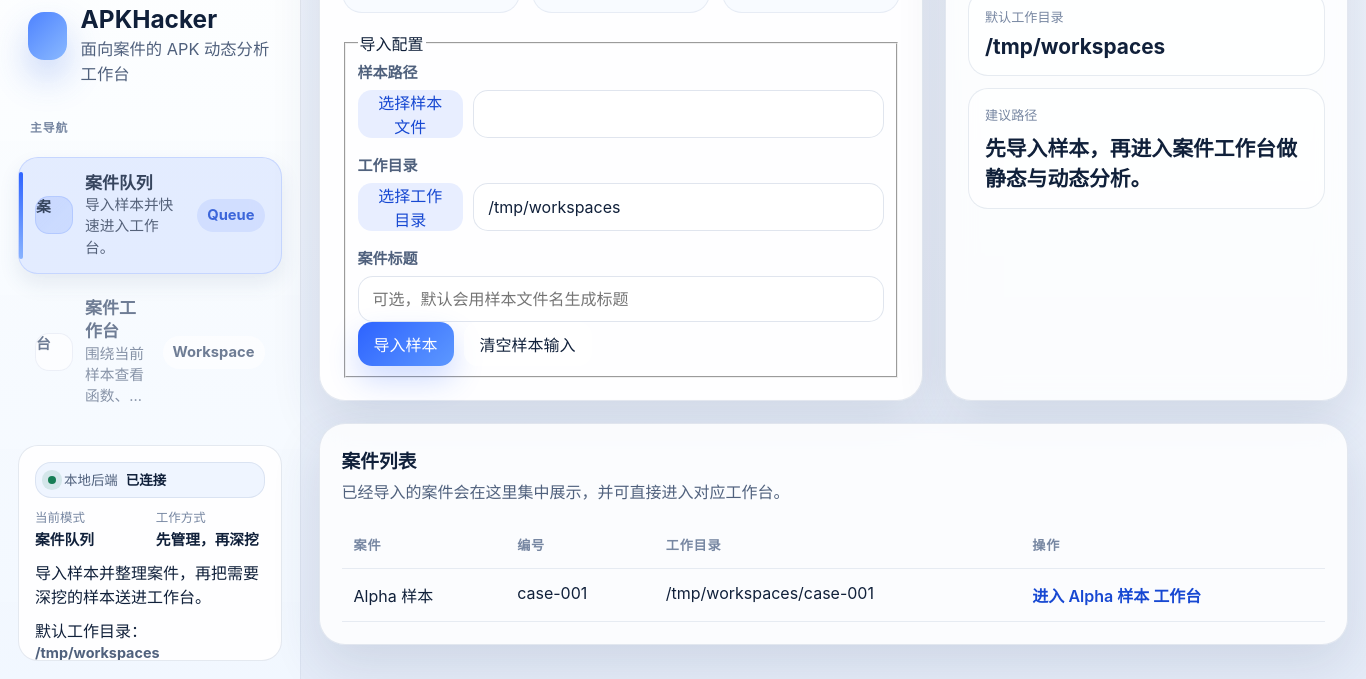
it: App shell › navigates from queue to a concrete workspace and loads workspace details
The width and height of the screenshot is (1366, 679).
(page scrolled)
What coordinates should you click on to do the following:
click the link "进入 Alpha 样本 工作台"
I would click on:
 (1050, 596)
Its box is x1=1032 y1=586 x2=1201 y2=606.
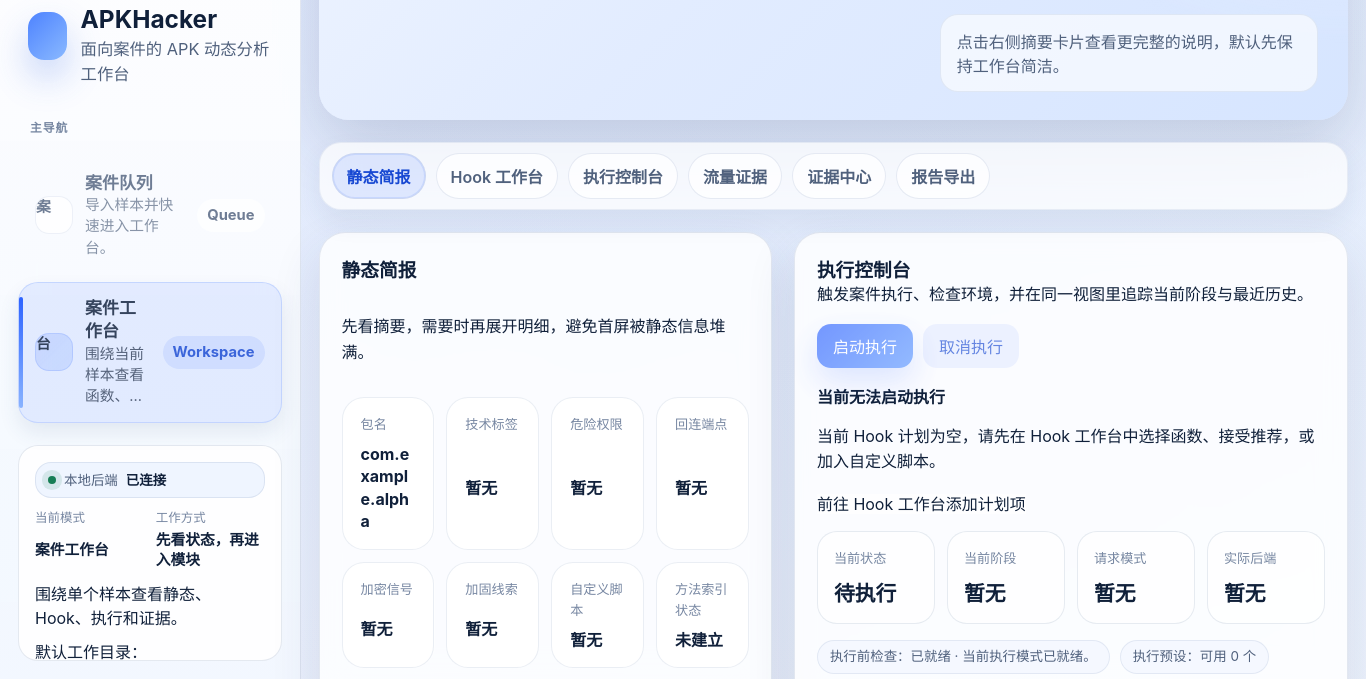
Now the text named "当前模式" reads "案件工作台", box x1=35 y1=541 x2=109 y2=559
